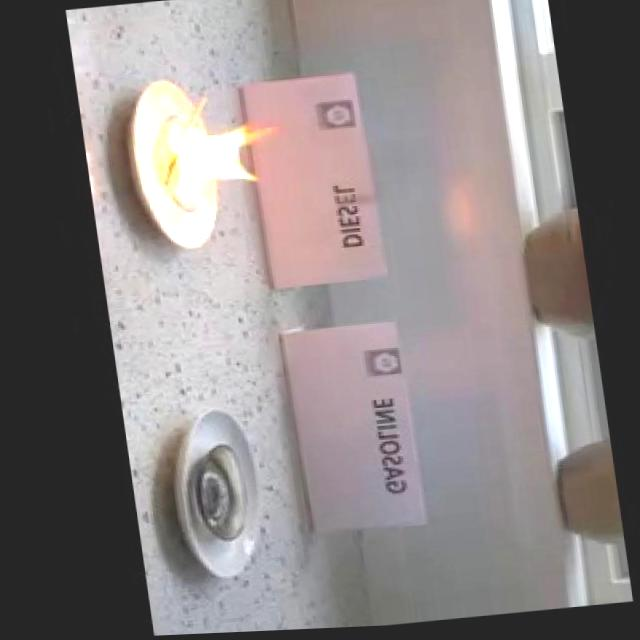Smoke: (150, 111, 287, 204)
